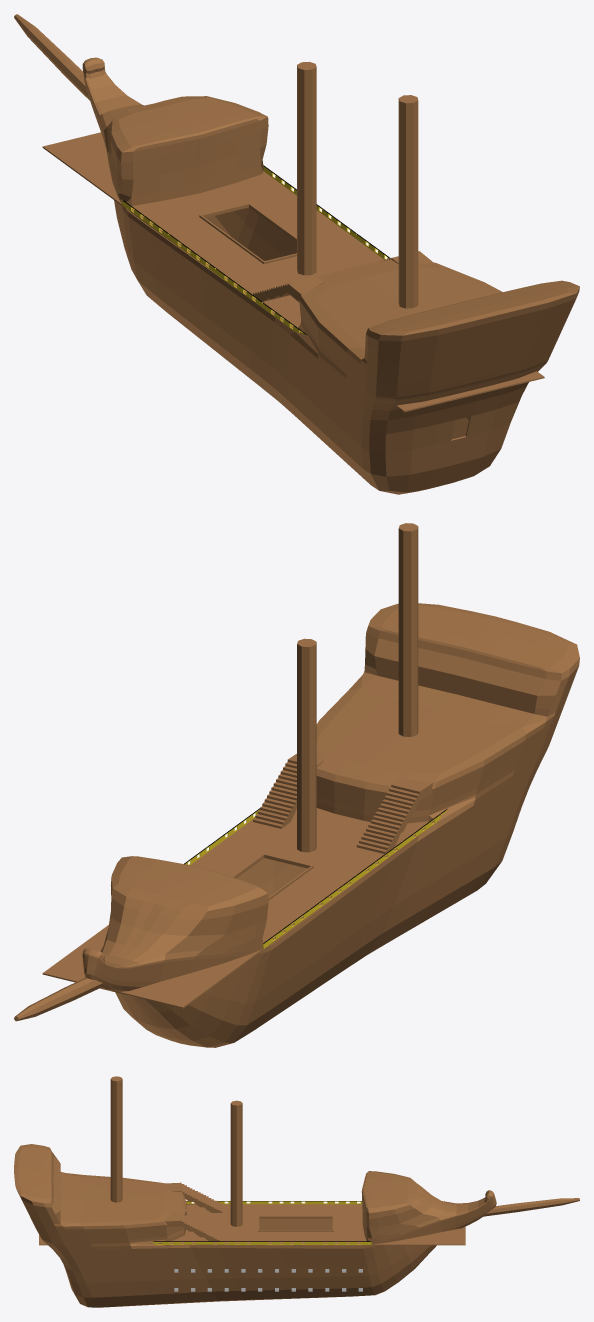
Rendered from ship_top_t1.glb.
The picture shows the model from 3 angles, top to bottom: view 1: azimuth 30°, elevation 25°; view 2: azimuth 150°, elevation 25°; view 3: azimuth 270°, elevation 25°; orthographic projection. The views are drawn at different scales.
Visible parts, largest first — view 1: outer detail, 0F, sails 1, Plane, ship spike, Cube.001; view 2: outer detail, 0F, sails 1, Cube.001, Plane, ship spike; view 3: outer detail, 0F, sails 1, Cube.001, Plane, ship spike, cannon cutouts.
Part boxes in pixels (x1,y1,x2,y2): outer detail: (82,57,579,494); 0F: (42,132,544,412); sails 1: (297,61,418,308); Plane: (121,165,390,335); ship spike: (14,14,89,100); Cube.001: (253,251,433,301); outer detail: (82,603,579,1047); 0F: (42,808,433,1008); sails 1: (297,523,418,852); Cube.001: (253,754,433,853); Plane: (184,808,447,948); ship spike: (14,978,102,1021); outer detail: (14,1144,496,1307); 0F: (39,1204,465,1245); sails 1: (110,1076,242,1226); Cube.001: (164,1182,222,1242); Plane: (152,1201,371,1244); ship spike: (483,1198,579,1216); cannon cutouts: (174,1269,362,1291).
Bounding box in the file's own units: 49.75 × 88.46 × 205.
